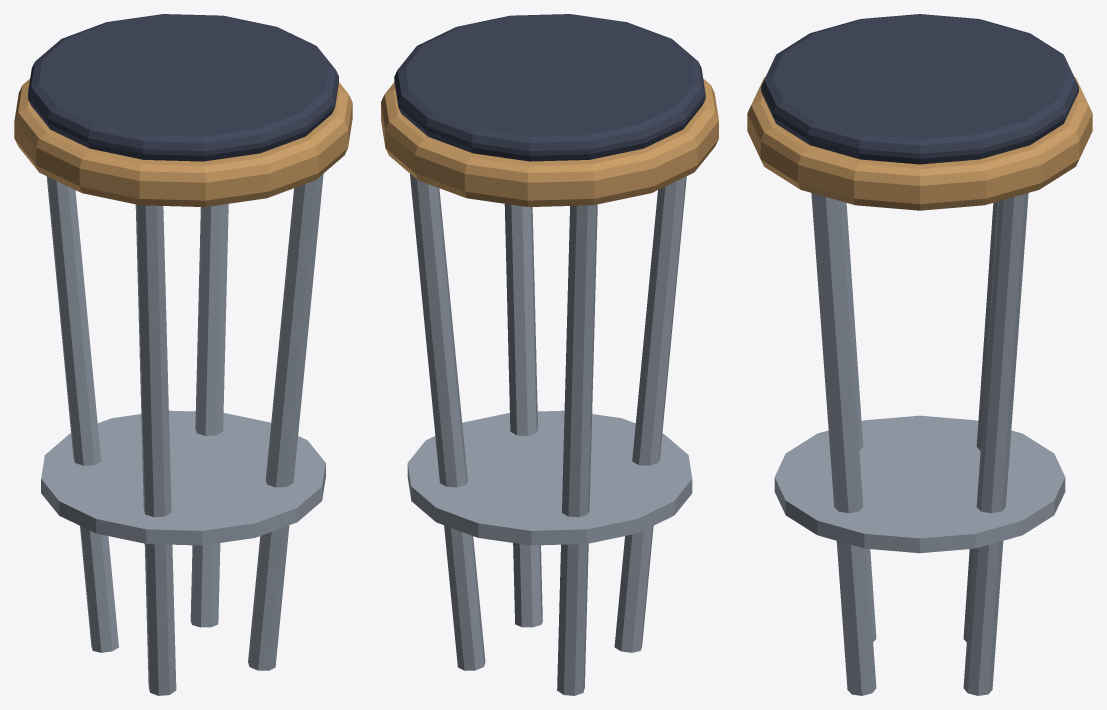
Rendered from stool.glb.
The picture shows the model from 3 angles, left to right: view 1: azimuth 30°, elevation 25°; view 2: azimuth 150°, elevation 25°; view 3: azimuth 270°, elevation 25°; orthographic projection.
Parts seen in each view (by area): view 1: seat; view 2: seat; view 3: seat.
Part boxes in pixels (x1,y1,x2,y2): seat: [14, 14, 352, 695]; seat: [381, 14, 718, 695]; seat: [747, 14, 1092, 695].
Size of the model in its own units: 0.38 by 0.7151 by 0.38.
